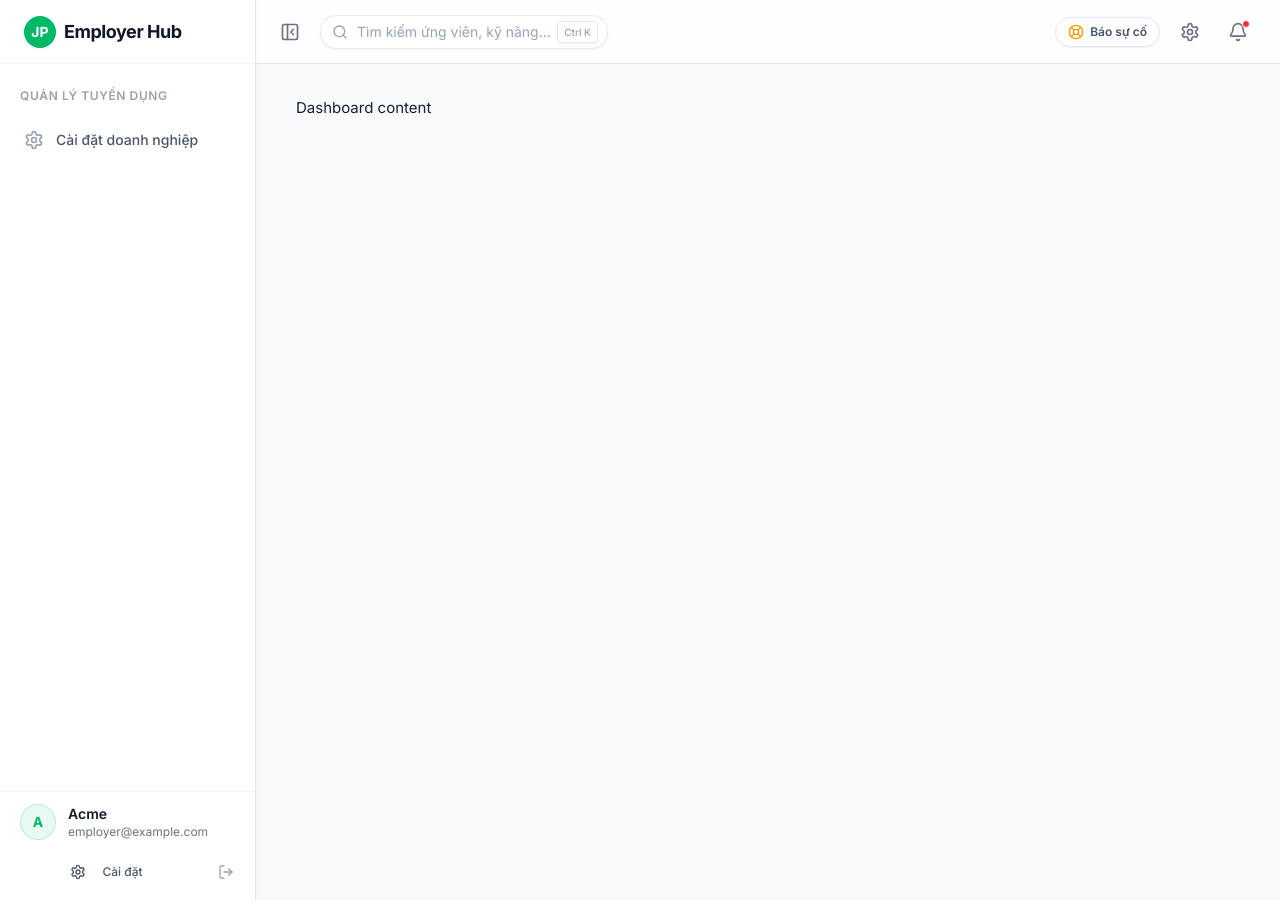
it: EmployerLayout permissions › renders 'Báo sự cố' button in topbar and opens incident feedback modal when clicked
This screenshot has width=1280, height=900.
Click the button "Báo sự cố" at (1108,32), box x1=1055 y1=16 x2=1160 y2=46
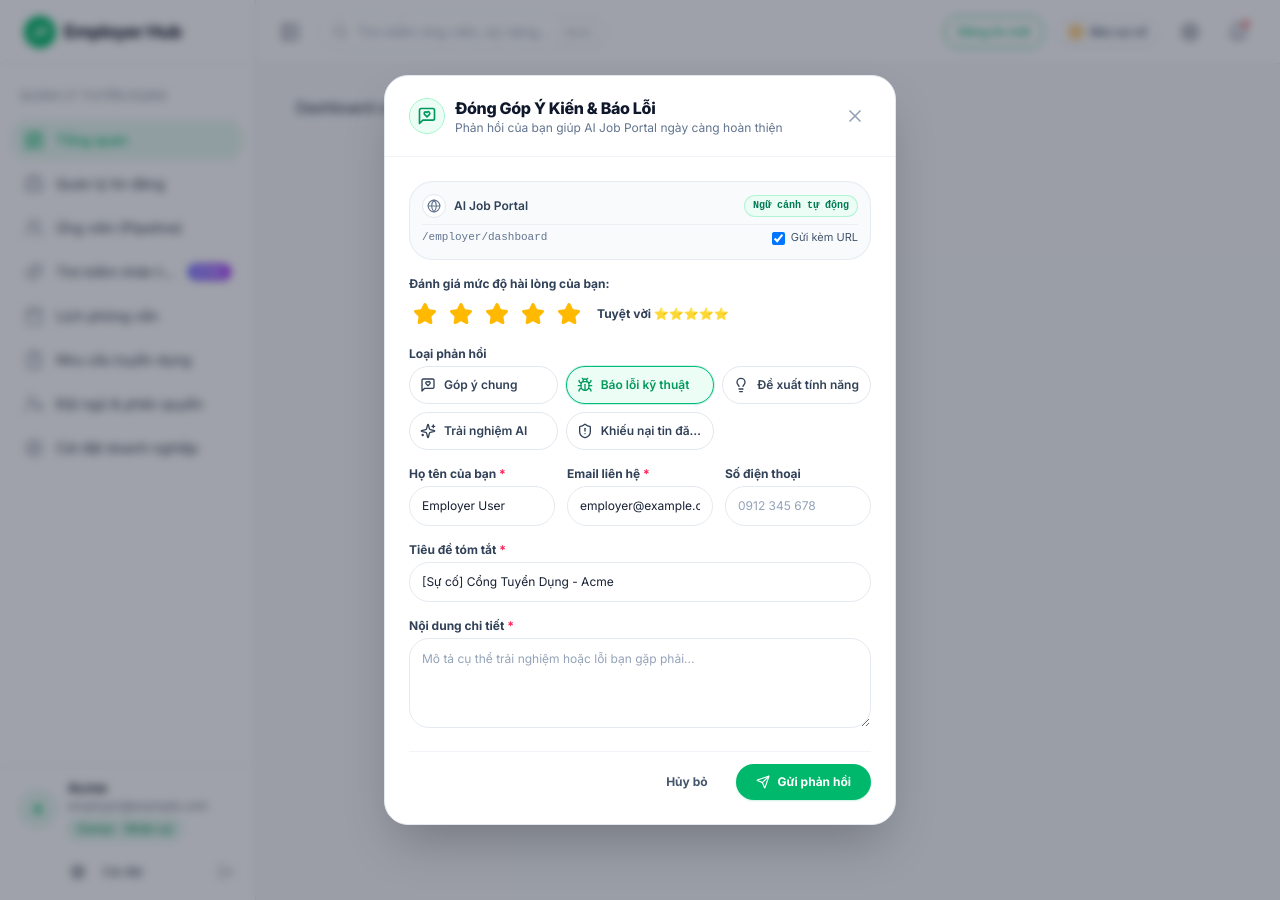
Expected: the heading "Đóng Góp Ý Kiến & Báo Lỗi" is shown, x1=455 y1=98 x2=655 y2=118
Expected: the text "Báo lỗi kỹ thuật" is shown, x1=601 y1=377 x2=690 y2=393
